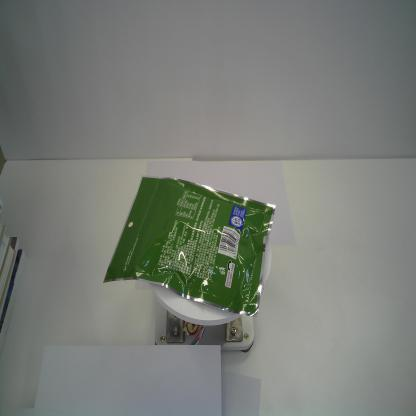Dried Fruit: (101, 173, 278, 319)
